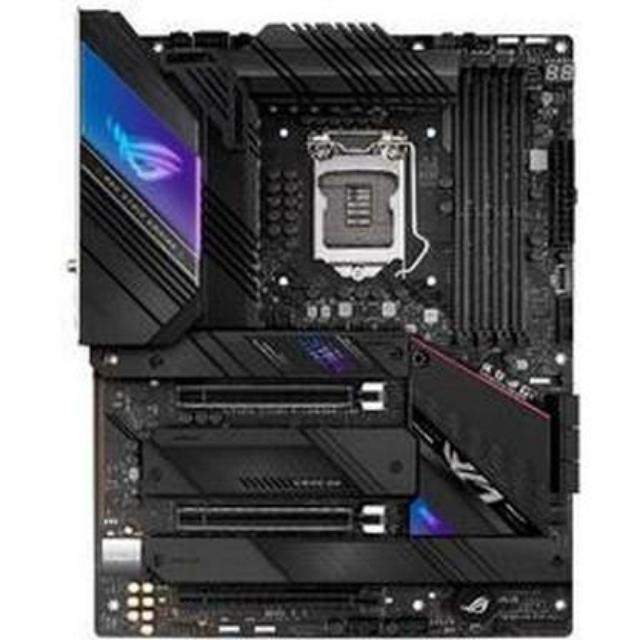Mainboard: (61, 0, 582, 640)
